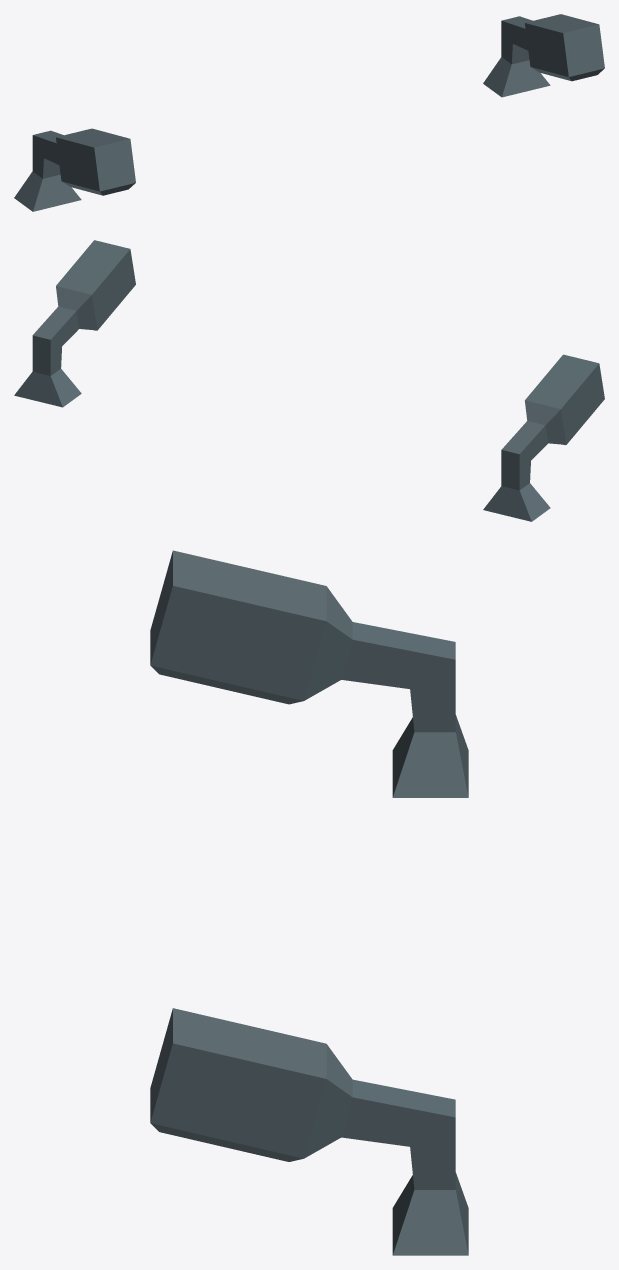
The model's file is RoofAcc_Lamps.fbx.
The picture shows the model from 3 angles, top to bottom: view 1: azimuth 30°, elevation 25°; view 2: azimuth 150°, elevation 25°; view 3: azimuth 270°, elevation 25°; orthographic projection. The views are drawn at different scales.
Visible parts, largest first — view 1: RoofAcc_Lamps; view 2: RoofAcc_Lamps; view 3: RoofAcc_Lamps.
Part boxes in pixels (x1,y1,x2,y2): RoofAcc_Lamps: (14, 14, 604, 211); RoofAcc_Lamps: (14, 240, 604, 521); RoofAcc_Lamps: (150, 550, 468, 1255).
Bounding box in the file's own units: 110 × 20.99 × 29.38.
